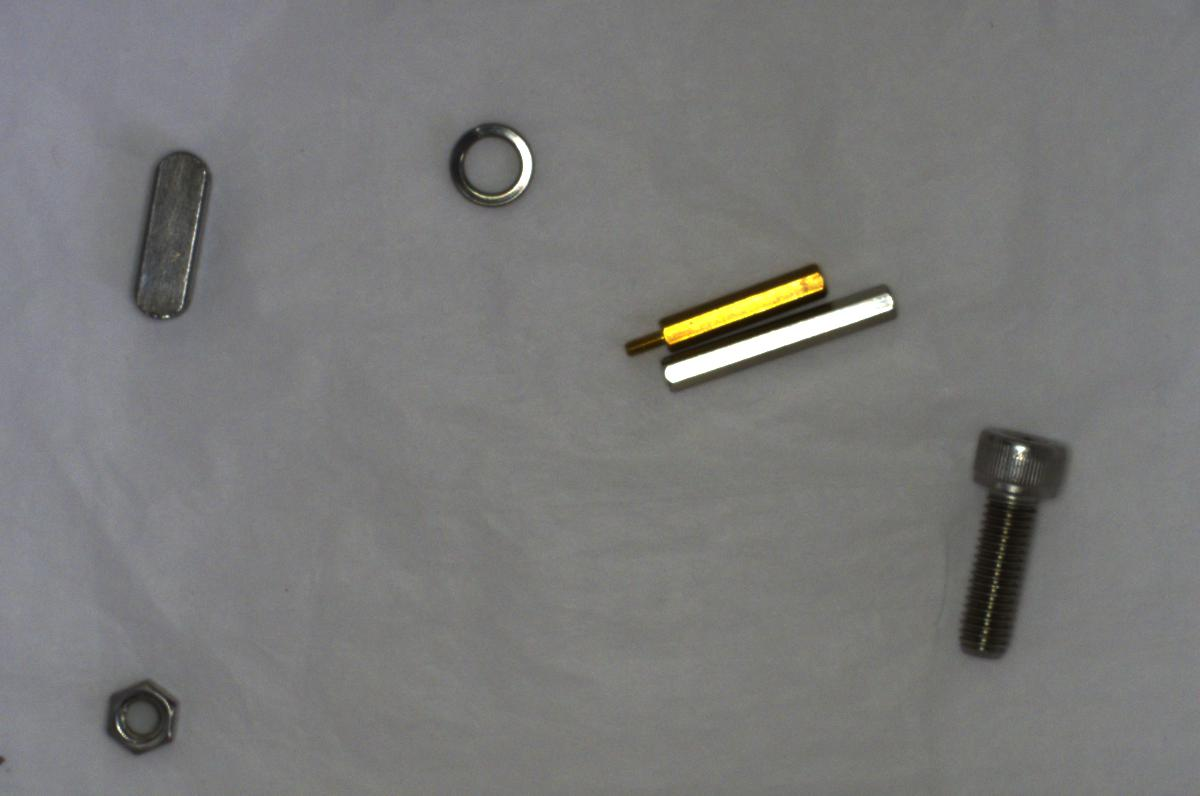Double hexagonal column: (655, 281, 905, 401)
Hexagon nut: (85, 672, 197, 761)
Hexagon pillar: (619, 252, 826, 361)
Hexagon screw: (950, 412, 1081, 672)
Keybar: (115, 146, 225, 332)
Spring washer: (432, 113, 544, 223)
